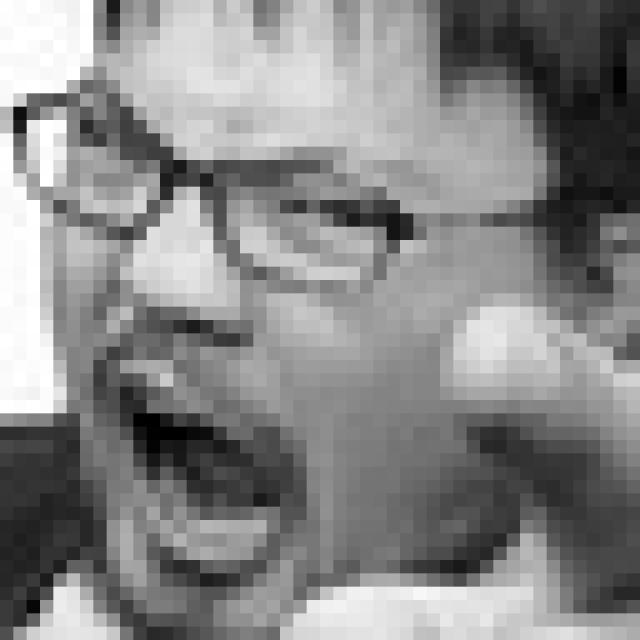angry: (62, 84, 412, 587)
